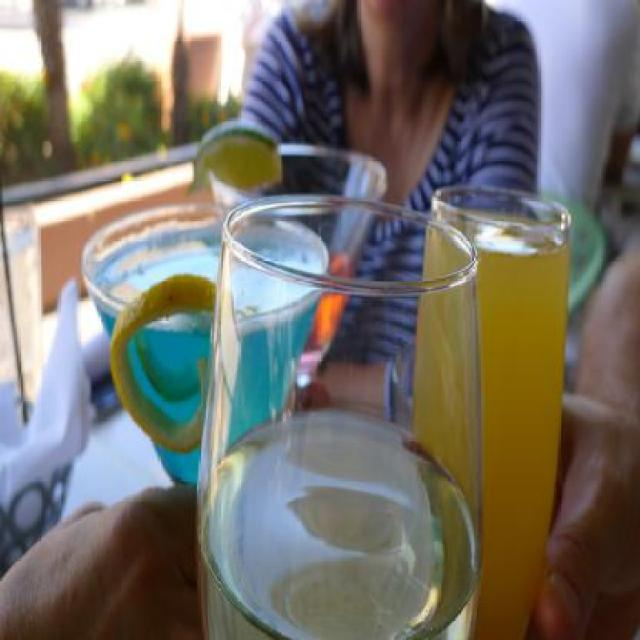Juice: (196, 408, 484, 640), (412, 204, 564, 640), (87, 228, 316, 488), (304, 258, 350, 352)
